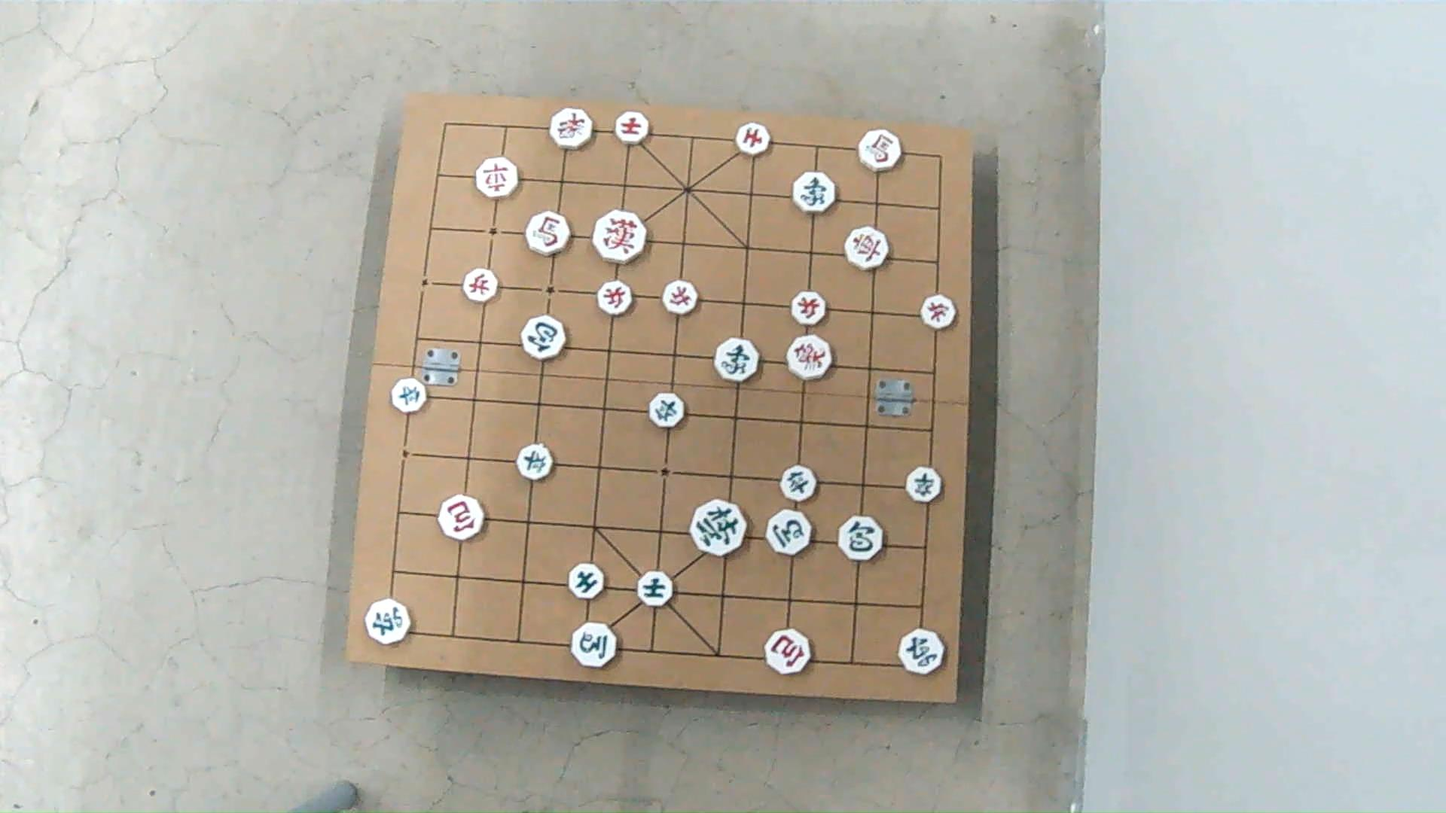cha_green: (900, 629, 946, 674), (366, 601, 411, 646)
cha_red: (845, 224, 889, 268), (475, 157, 518, 198)
jol_green: (781, 464, 817, 500), (905, 466, 942, 501), (519, 444, 554, 481), (648, 391, 684, 426), (391, 376, 426, 412)
jol_red: (791, 291, 826, 325), (464, 269, 499, 303), (599, 280, 633, 315), (663, 282, 697, 316), (920, 295, 954, 329)
ma_green: (768, 510, 813, 554), (572, 624, 616, 668)
ma_red: (527, 212, 570, 255), (859, 131, 901, 173)
po_green: (840, 516, 884, 561), (522, 316, 566, 361)
po_red: (768, 629, 813, 674), (441, 494, 485, 539)
sa_green: (636, 571, 672, 607), (569, 561, 604, 597)
sa_red: (615, 111, 650, 145), (735, 123, 770, 155)
sang_green: (715, 339, 759, 382), (792, 172, 835, 215)
sang_red: (788, 338, 831, 382), (551, 109, 593, 151)
wang_green: (693, 498, 748, 555)
wang_red: (596, 209, 650, 262)
